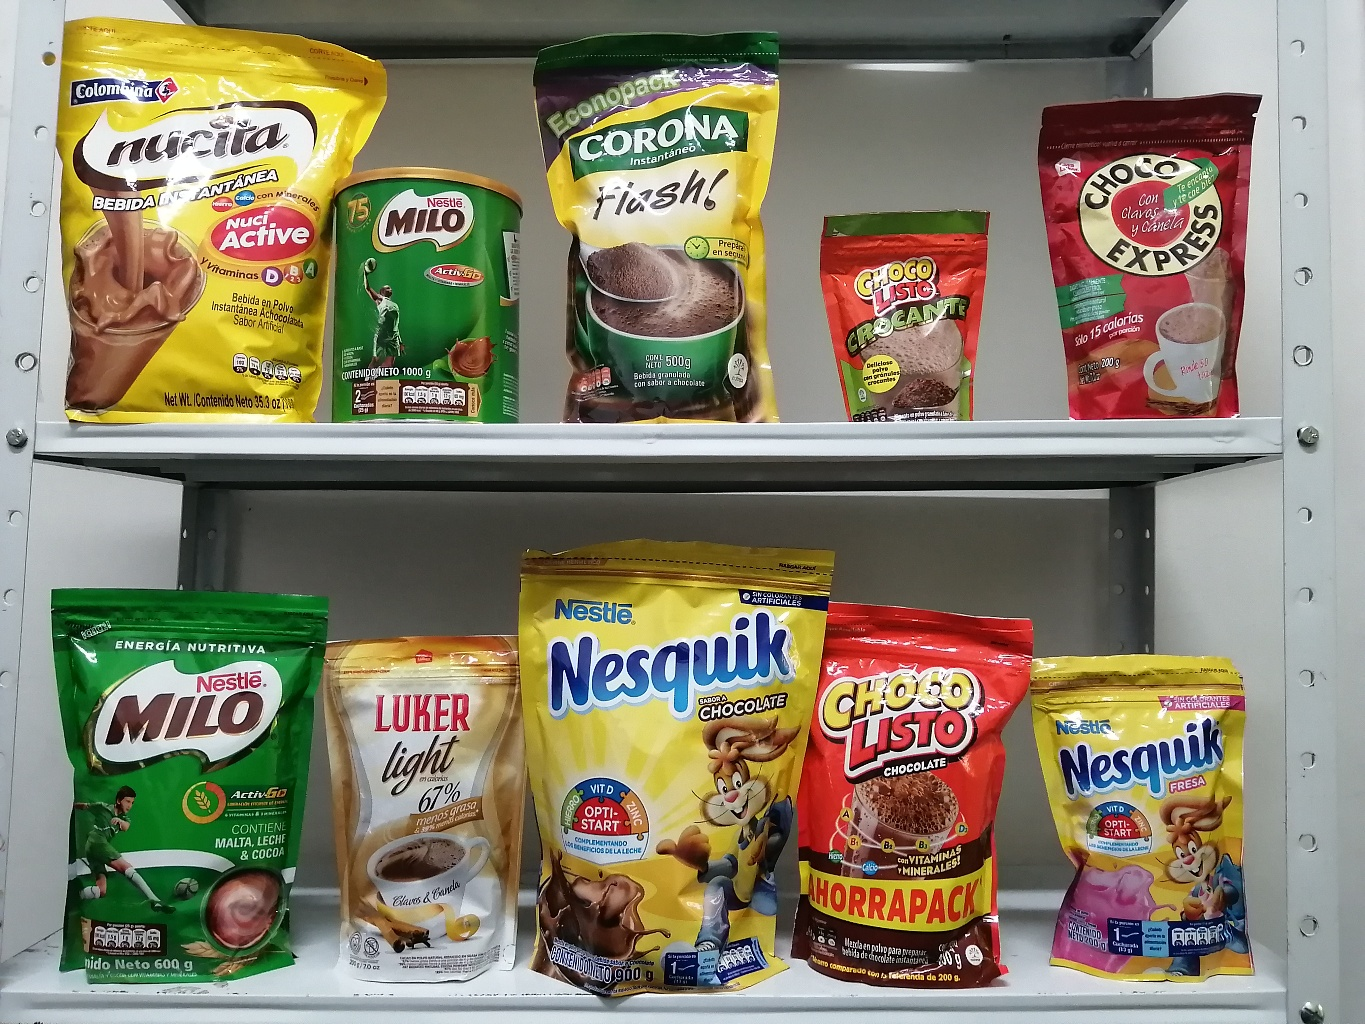COL0170102DYP10000: (810, 191, 1024, 436)
COL0170103DYP40000: (776, 586, 1056, 1002)
COL0170305DYP20000: (1014, 632, 1280, 989)
